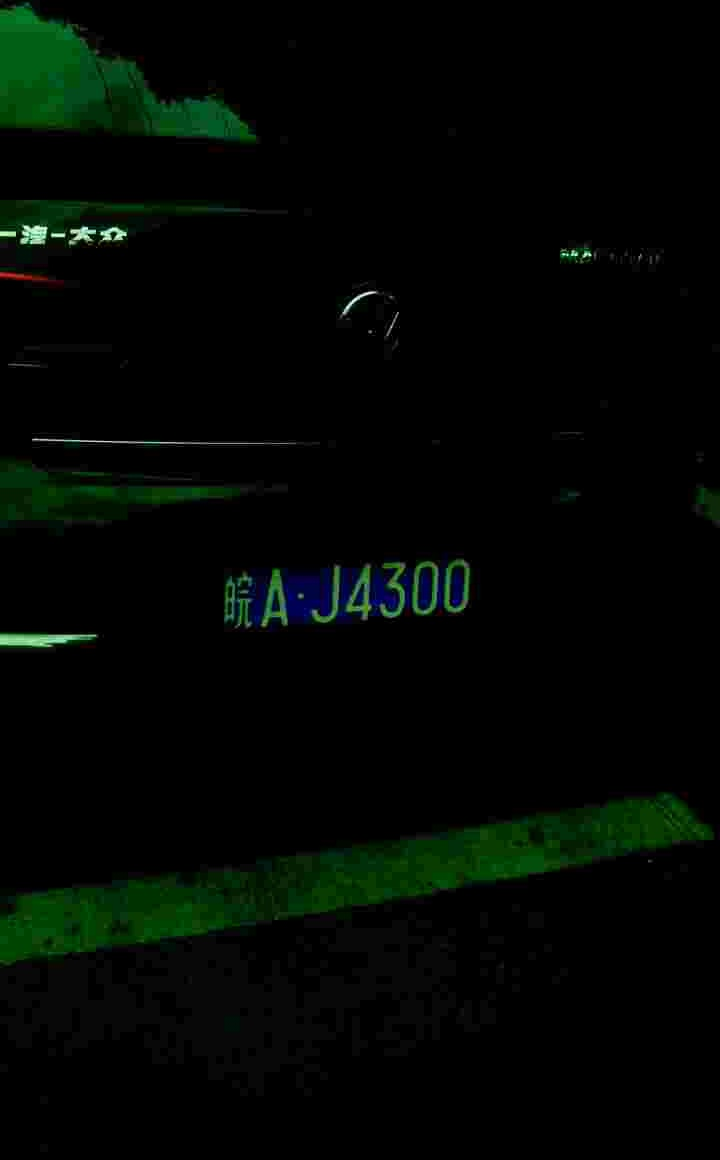car: (219, 562, 499, 639)
